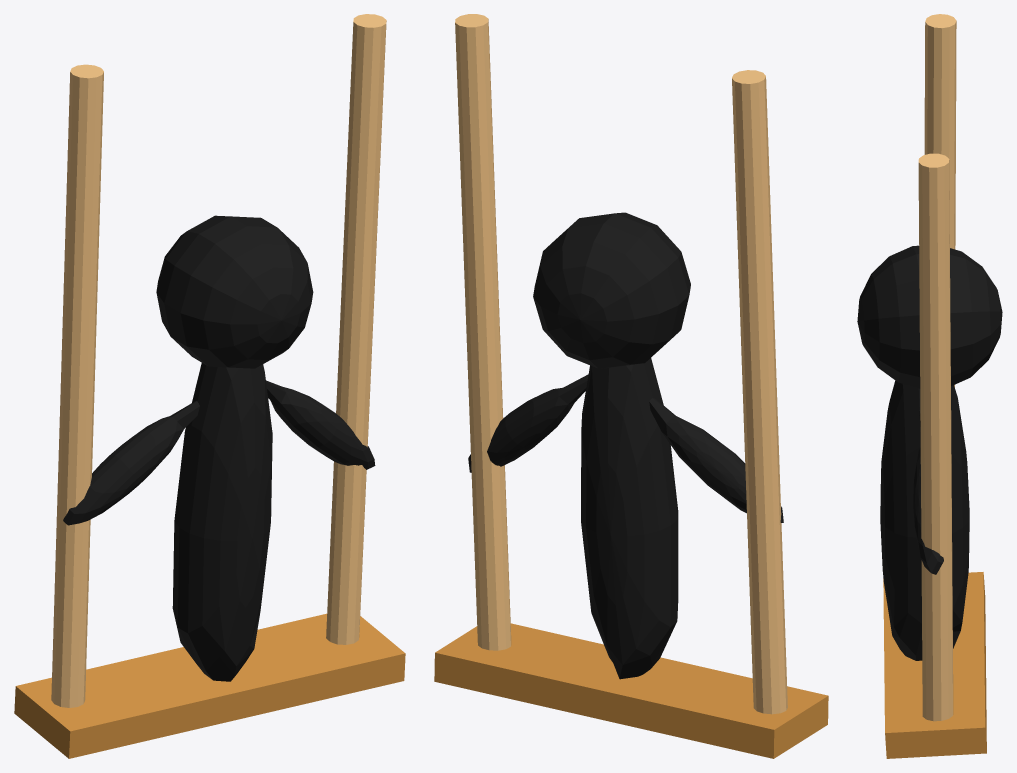
3 views of the same model, side by side, from view 1: azimuth 30°, elevation 25°; view 2: azimuth 150°, elevation 25°; view 3: azimuth 270°, elevation 25° (orthographic). The views are drawn at different scales.
Parts seen in each view (by area): view 1: mesh_2127775021, mesh_887456586, mesh_84222879, mesh_973777023, mesh_142187663, mesh_1883364807, mesh_716644772; view 2: mesh_887456586, mesh_2127775021, mesh_84222879, mesh_973777023, mesh_142187663, mesh_1883364807, mesh_716644772; view 3: mesh_973777023, mesh_887456586, mesh_142187663, mesh_2127775021, mesh_84222879, mesh_716644772.
Boxes of the visible parts, left/top/right/bottom form: mesh_2127775021: left=14, top=613, right=405, bottom=758; mesh_887456586: left=172, top=363, right=272, bottom=681; mesh_84222879: left=51, top=64, right=103, bottom=707; mesh_973777023: left=326, top=14, right=386, bottom=644; mesh_142187663: left=156, top=215, right=313, bottom=368; mesh_1883364807: left=63, top=400, right=199, bottom=525; mesh_716644772: left=266, top=380, right=375, bottom=469; mesh_887456586: left=581, top=358, right=678, bottom=679; mesh_2127775021: left=434, top=623, right=828, bottom=758; mesh_84222879: left=732, top=70, right=787, bottom=714; mesh_973777023: left=455, top=14, right=511, bottom=650; mesh_142187663: left=533, top=212, right=690, bottom=368; mesh_1883364807: left=649, top=398, right=783, bottom=522; mesh_716644772: left=468, top=374, right=588, bottom=472; mesh_973777023: left=918, top=153, right=953, bottom=721; mesh_887456586: left=880, top=380, right=969, bottom=660; mesh_142187663: left=857, top=245, right=1002, bottom=388; mesh_2127775021: left=883, top=572, right=986, bottom=758; mesh_84222879: left=924, top=14, right=956, bottom=387; mesh_716644772: left=913, top=410, right=943, bottom=574.
Size of the model in its own units: 90.94 by 167 by 36.16.
